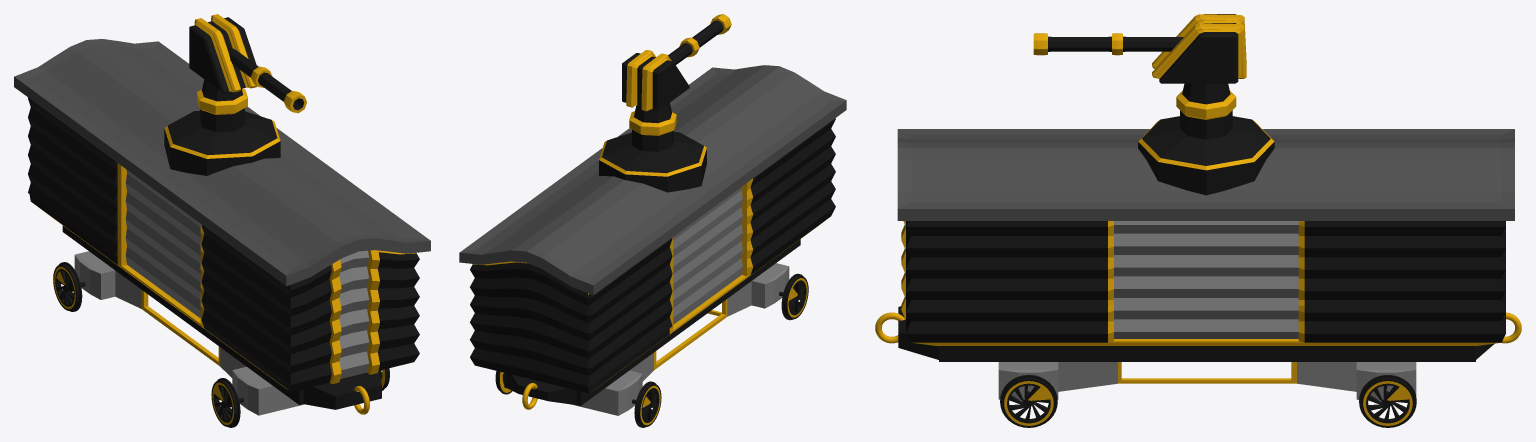
Rendered from TrainWagon.fbx.
3 views of the same model, side by side, from view 1: azimuth 30°, elevation 25°; view 2: azimuth 150°, elevation 25°; view 3: azimuth 270°, elevation 25° (orthographic). The views are drawn at different scales.
Visible parts, largest first — view 1: Cube.002, Cube, Circle.009, Circle.008; view 2: Cube.002, Cube, Circle.008, Circle.009; view 3: Cube.002, Cube, Circle.008, Circle.009.
Boxes of the visible parts, x1,y1,x2,y2 form: Cube.002: (14, 39, 430, 415); Cube: (189, 14, 306, 113); Circle.009: (211, 368, 389, 427); Circle.008: (53, 262, 85, 311); Cube.002: (459, 65, 846, 415); Cube: (622, 14, 731, 111); Circle.008: (495, 371, 661, 427); Circle.009: (779, 273, 808, 320); Cube.002: (875, 83, 1521, 400); Cube: (1033, 14, 1246, 83); Circle.008: (1359, 375, 1416, 427); Circle.009: (1000, 375, 1057, 427).
Size of the model in its own units: 755 by 1508 by 2410.
